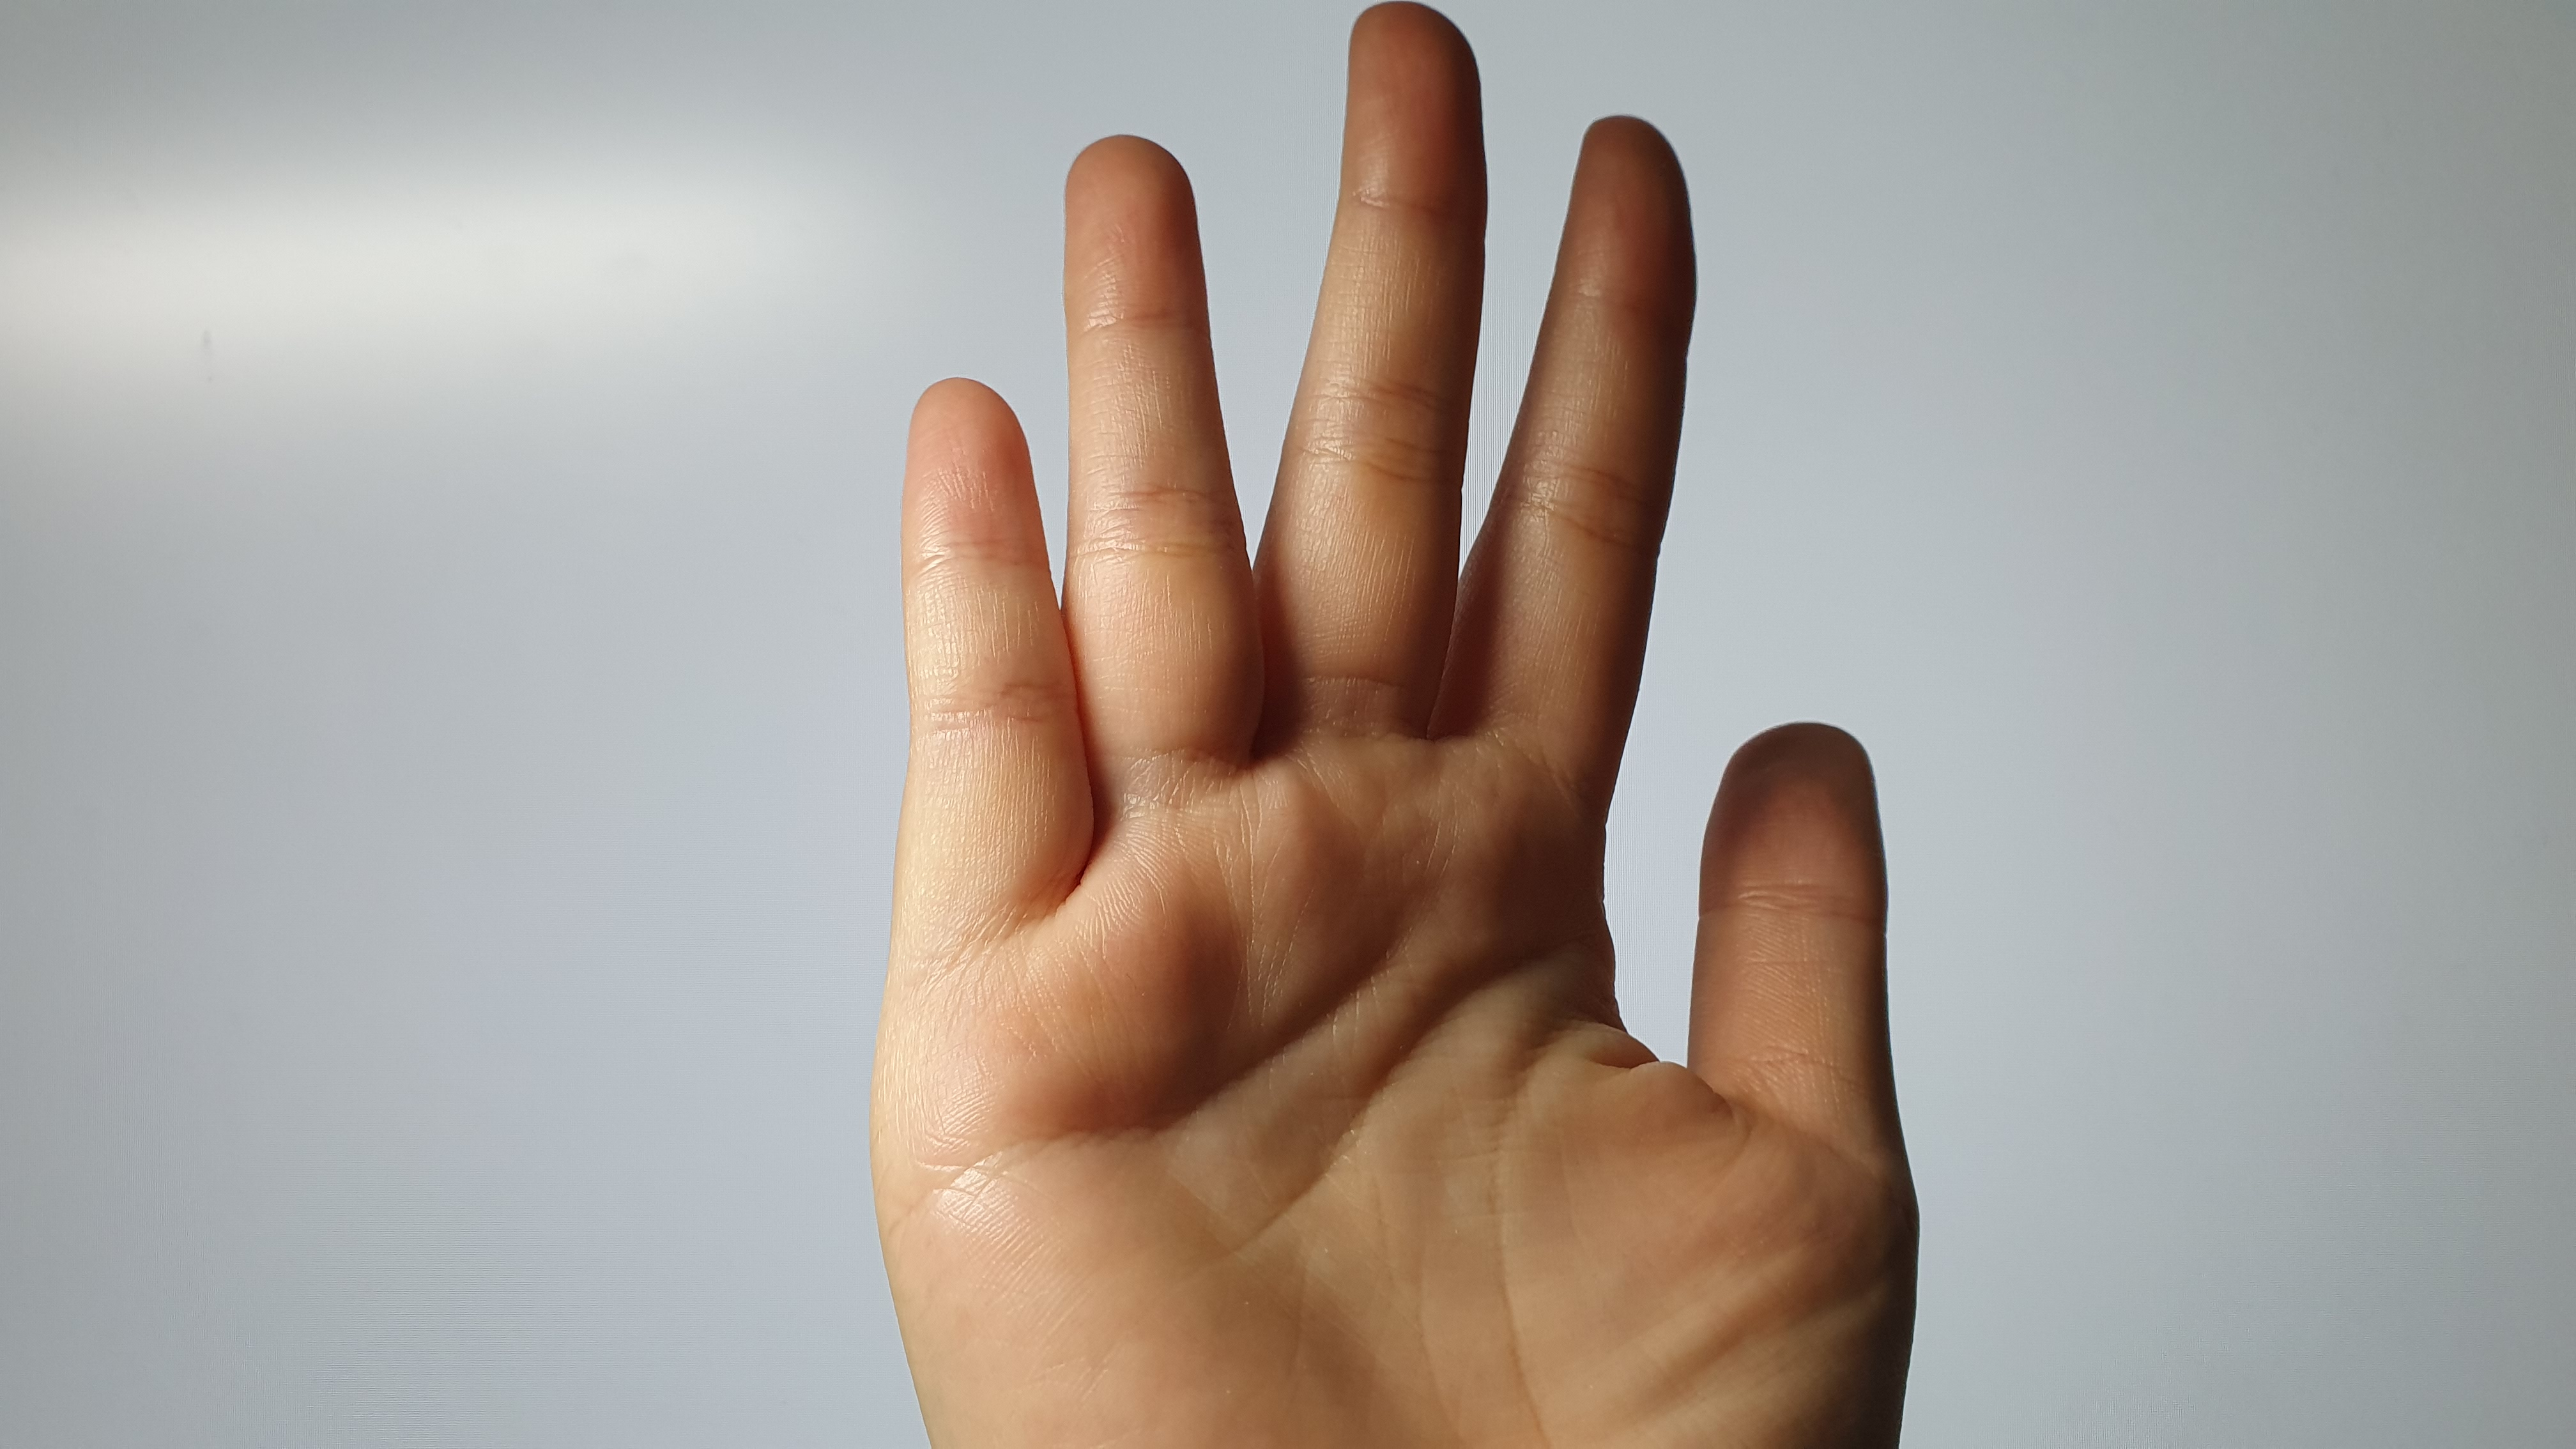hand: (855, 7, 1925, 1449)
index finger: (1456, 101, 1709, 757)
middle finger: (1261, 5, 1472, 732)
palm: (855, 768, 1704, 1449)
pinky: (885, 363, 1104, 924)
ring finger: (1044, 129, 1277, 801)
thumb: (1684, 717, 1898, 1191)
